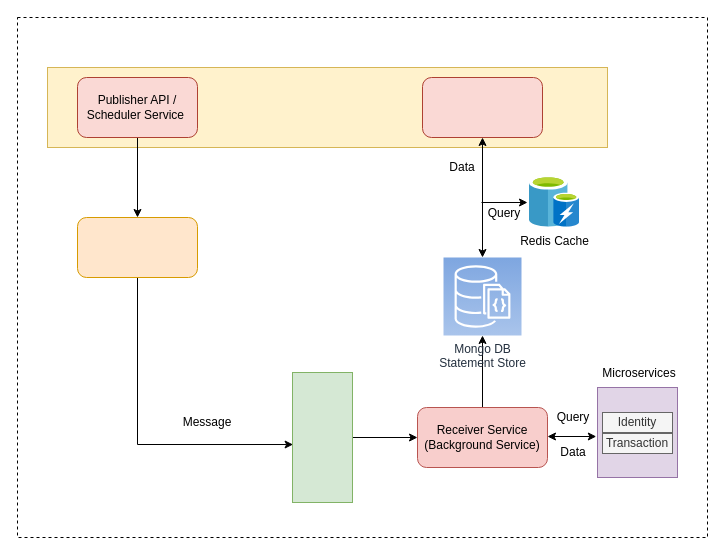
Image size: 725x555. Some labels were removed from this diagram. The shapes that lost their labels are listed below. From the top down, each one's centre as x and y in pixels, then its label:
At pixel 482 107: "Statement API".
At pixel 137 247: "Command Publisher".
At pixel 322 437: "RabbitMQ Message Bus".
